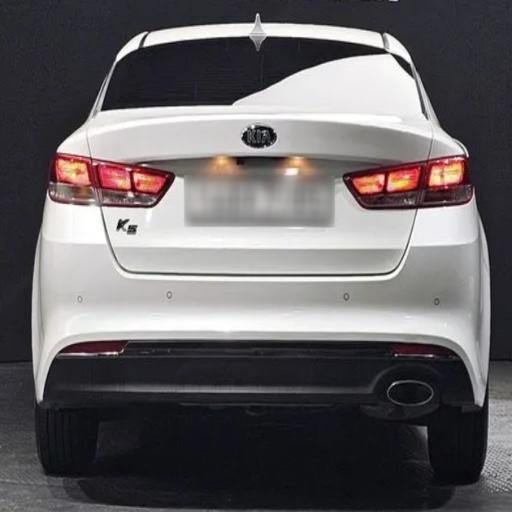normal: (49, 15, 499, 512)
